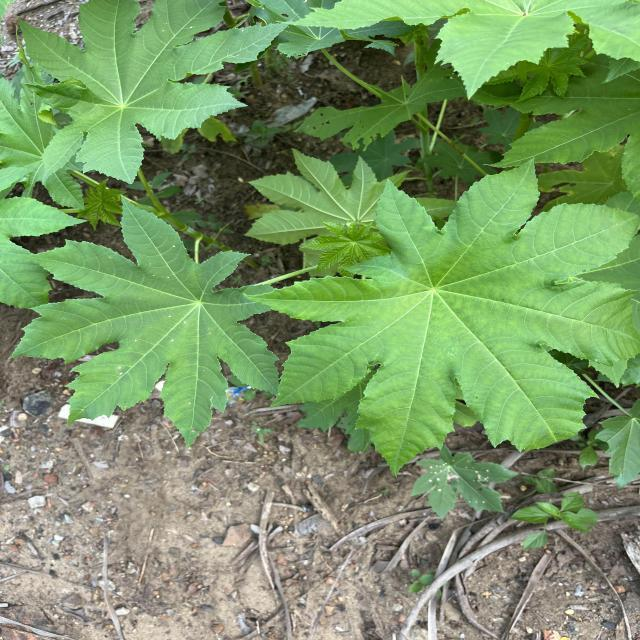Ricinus communis linn: (240, 153, 640, 480), (3, 190, 284, 450), (11, 0, 300, 188)
